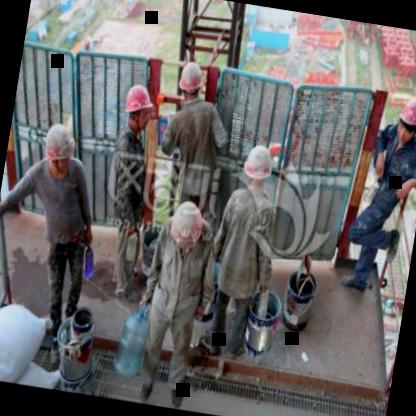helmet: (166, 198, 206, 250), (41, 122, 80, 174), (121, 80, 157, 132), (241, 144, 274, 188), (174, 60, 206, 104), (394, 95, 416, 146)
